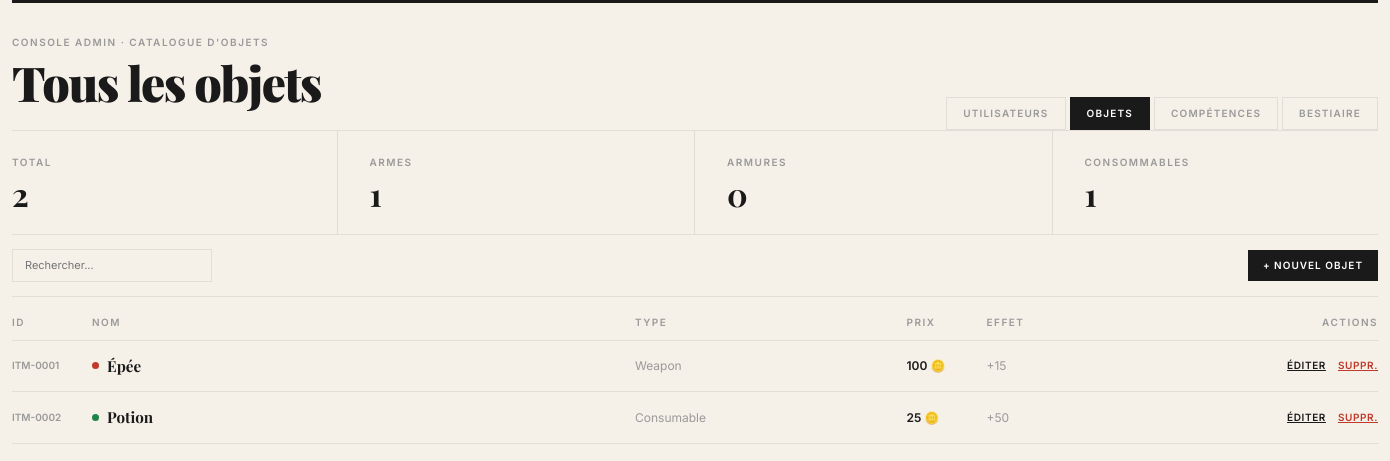
Scenario: AdminItemsView › filtre les items par recherche textuelle
Type "Potion" into the field with placeholder "Rechercher..." at (112, 265), box [12, 249, 212, 282]
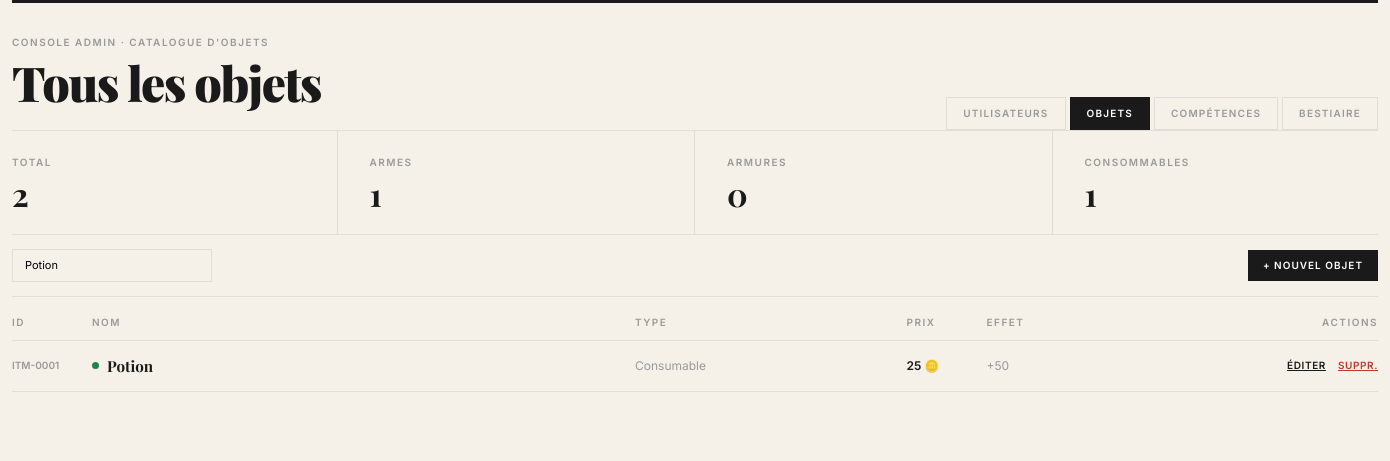
Expected: the text "Potion" is shown, [107, 354, 153, 377]
Expected: the text "Épée" is gone
